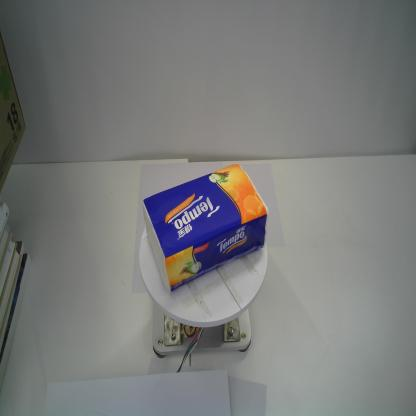Tissue: (142, 162, 267, 292)
